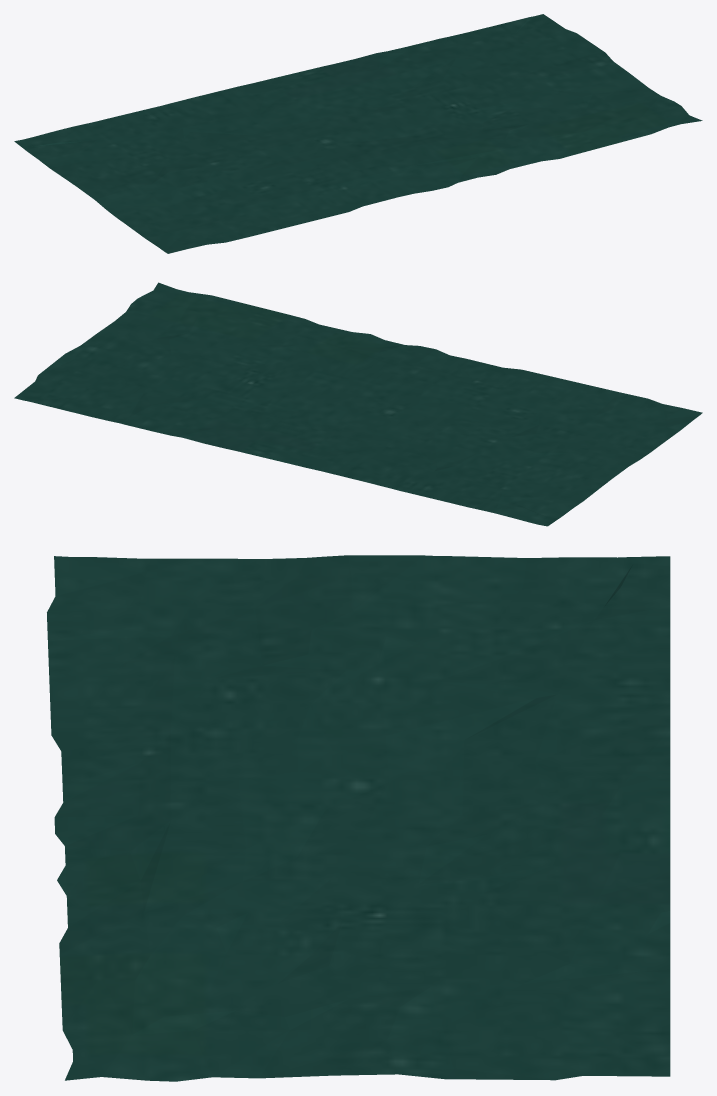
The picture shows the model from 3 angles, top to bottom: view 1: azimuth 30°, elevation 25°; view 2: azimuth 150°, elevation 25°; view 3: azimuth 270°, elevation 25°; orthographic projection. The views are drawn at different scales.
Bounding box in the file's own units: 134 × 0.71 × 67.26.
1 material, 1 textured.
